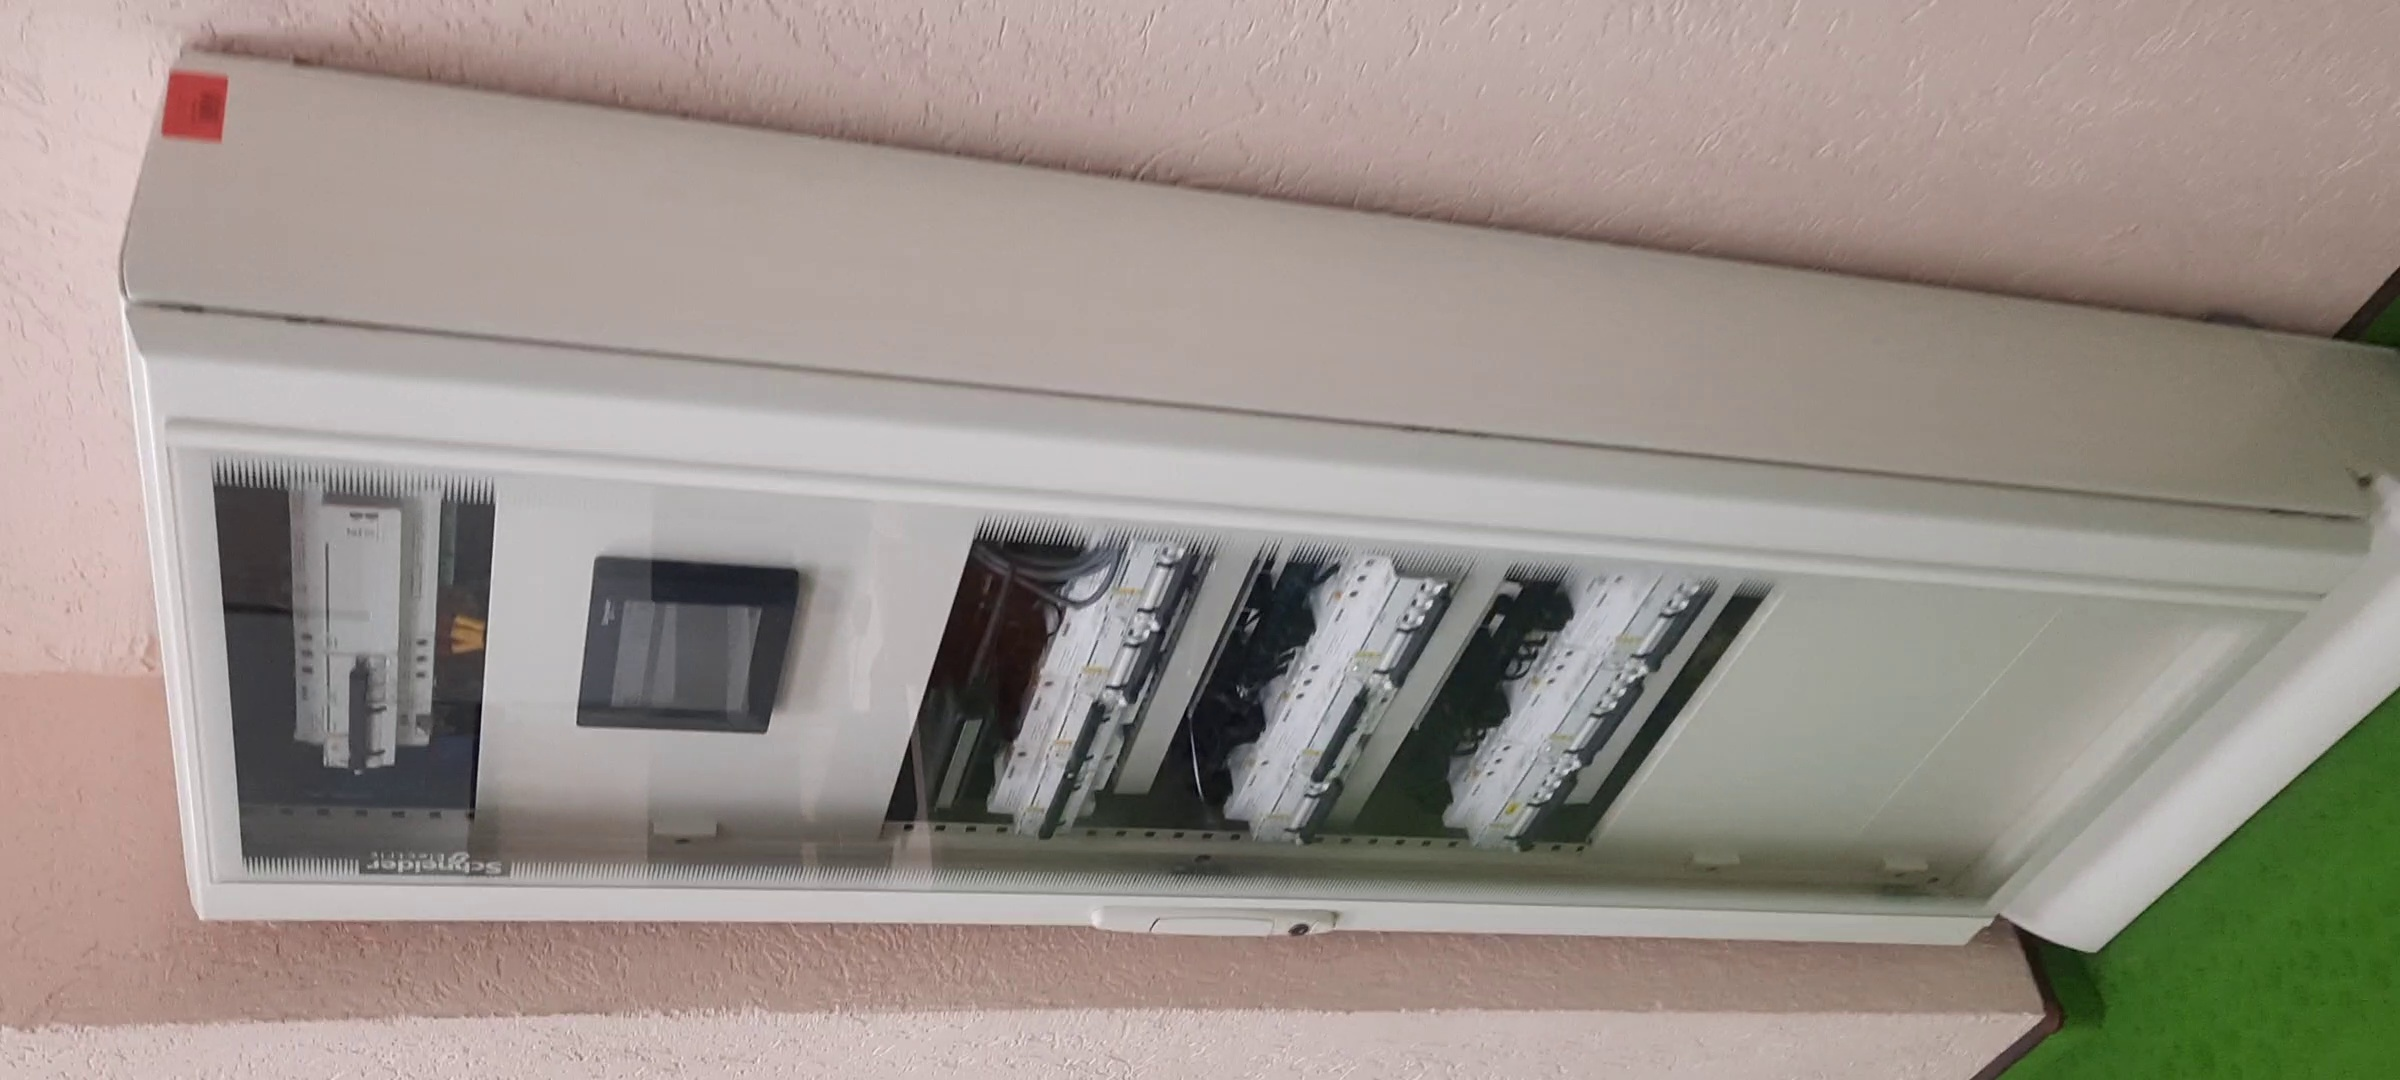smart_stand: (122, 207, 2371, 948)
